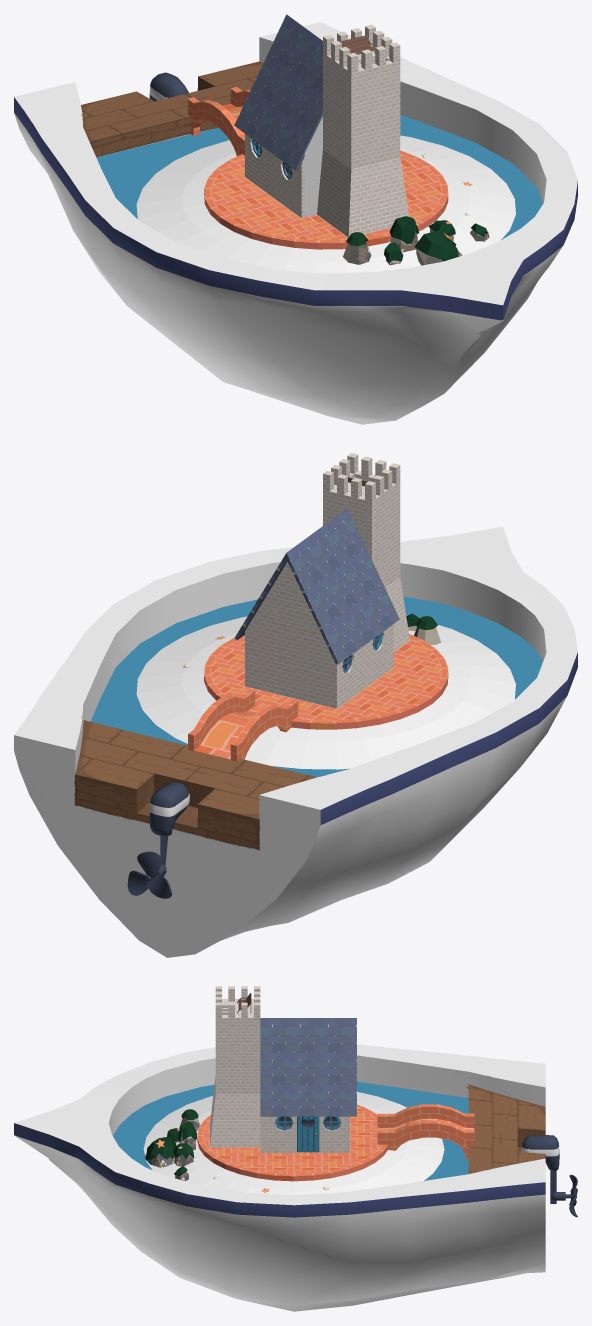
Rendered from boat.fbx.
3 renders of one model, top to bottom at view 1: azimuth 30°, elevation 25°; view 2: azimuth 150°, elevation 25°; view 3: azimuth 270°, elevation 25°, orthographic. The views are drawn at different scales.
Visible parts, largest first — view 1: boat, island, towerBottom, ground, toit, boatWater, rocks, house walls, towerTop, bridge1, housewalls old, motor; view 2: boat, island, house walls, toit, boatWater, ground, towerBottom, bridge1, towerTop, motor, bridge2, helices (+1 smaller); view 3: boat, toit, island, towerBottom, ground, boatWater, bridge1, house walls, rocks, towerTop, motor, door (+1 smaller).
Boxes of the visible parts, x1=… form: boat: x1=14, y1=22, x2=577, y2=424; island: x1=136, y1=135, x2=515, y2=273; towerBottom: x1=317, y1=53, x2=408, y2=237; ground: x1=204, y1=150, x2=448, y2=249; toit: x1=234, y1=14, x2=322, y2=171; boatWater: x1=96, y1=115, x2=542, y2=239; rocks: x1=343, y1=216, x2=489, y2=265; house walls: x1=245, y1=134, x2=313, y2=218; towerTop: x1=323, y1=24, x2=400, y2=73; bridge1: x1=188, y1=87, x2=250, y2=156; housewalls old: x1=304, y1=116, x2=322, y2=216; motor: x1=149, y1=72, x2=188, y2=101; boat: x1=14, y1=526, x2=577, y2=957; island: x1=136, y1=616, x2=515, y2=769; house walls: x1=245, y1=562, x2=393, y2=708; toit: x1=234, y1=508, x2=399, y2=664; boatWater: x1=90, y1=597, x2=542, y2=777; ground: x1=204, y1=634, x2=448, y2=729; towerBottom: x1=323, y1=481, x2=409, y2=651; bridge1: x1=188, y1=689, x2=298, y2=761; towerTop: x1=323, y1=453, x2=400, y2=501; motor: x1=149, y1=782, x2=189, y2=836; bridge2: x1=194, y1=705, x2=263, y2=759; helices: x1=127, y1=851, x2=171, y2=898; boat: x1=14, y1=1044, x2=545, y2=1311; toit: x1=260, y1=1018, x2=356, y2=1116; island: x1=143, y1=1092, x2=444, y2=1194; towerBottom: x1=210, y1=1018, x2=260, y2=1147; ground: x1=197, y1=1104, x2=387, y2=1181; boatWater: x1=113, y1=1081, x2=468, y2=1180; bridge1: x1=377, y1=1104, x2=474, y2=1158; house walls: x1=260, y1=1116, x2=349, y2=1152; rocks: x1=144, y1=1109, x2=200, y2=1180; towerTop: x1=215, y1=986, x2=260, y2=1017; motor: x1=522, y1=1134, x2=559, y2=1170; door: x1=297, y1=1116, x2=319, y2=1152.
Bounding box in the file's own units: 1390 × 1245 × 2014.
Materials: 13 (12 with a texture image).
